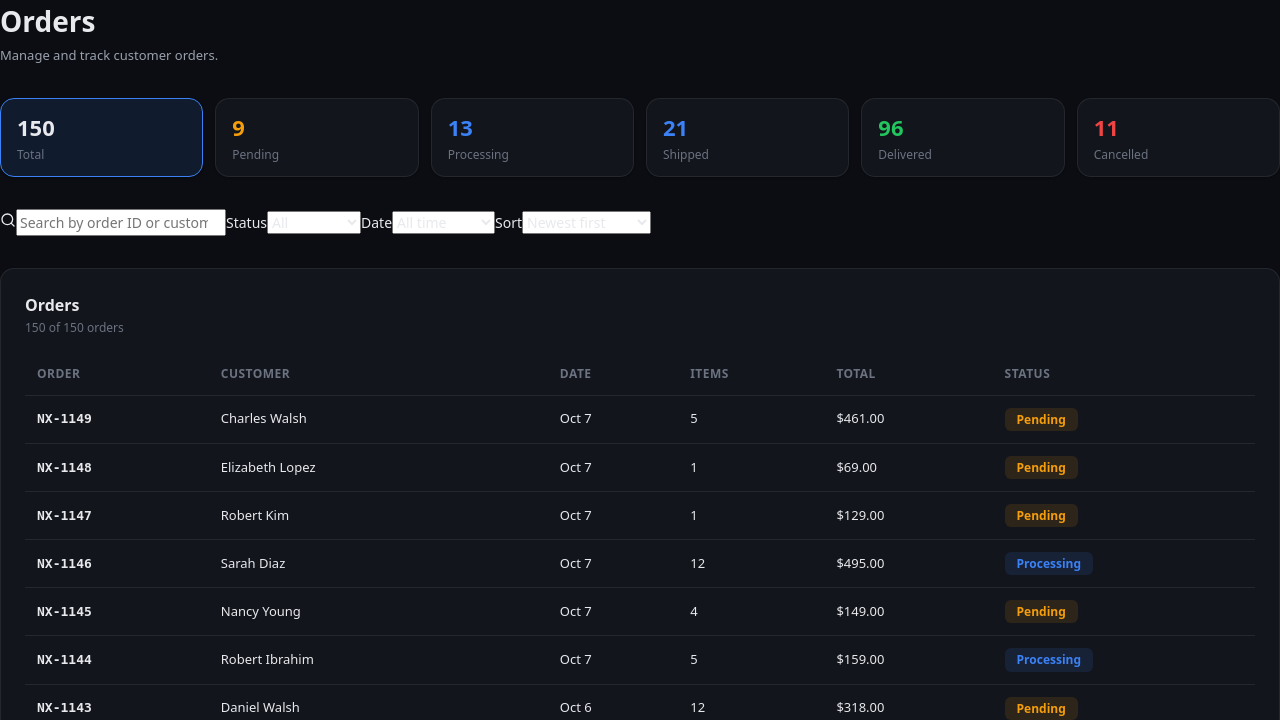
Scenario: Orders page status changes › cancels a Pending order and removes all further actions
This screenshot has width=1280, height=720.
Click the button "9 Pending".
click(317, 137)  # box [215,98,419,176]
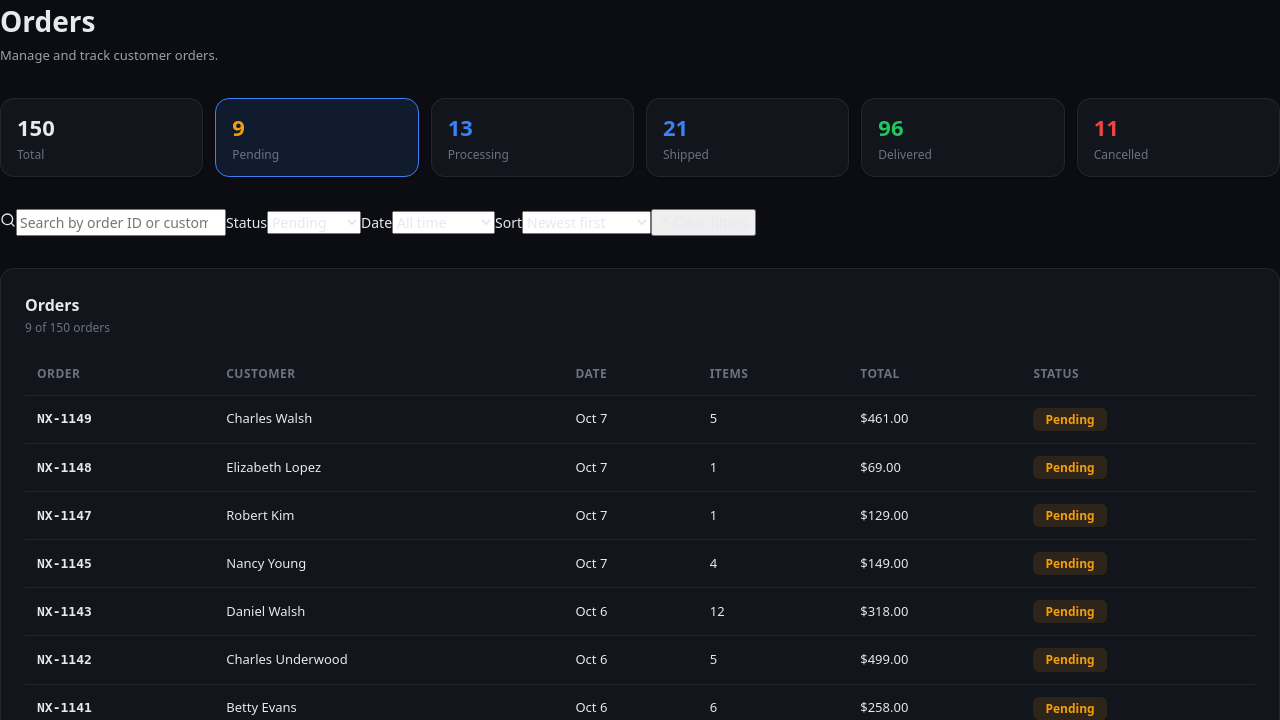
Click the button with aria-label "view order".
click(64, 419)  # box [37,409,92,429]
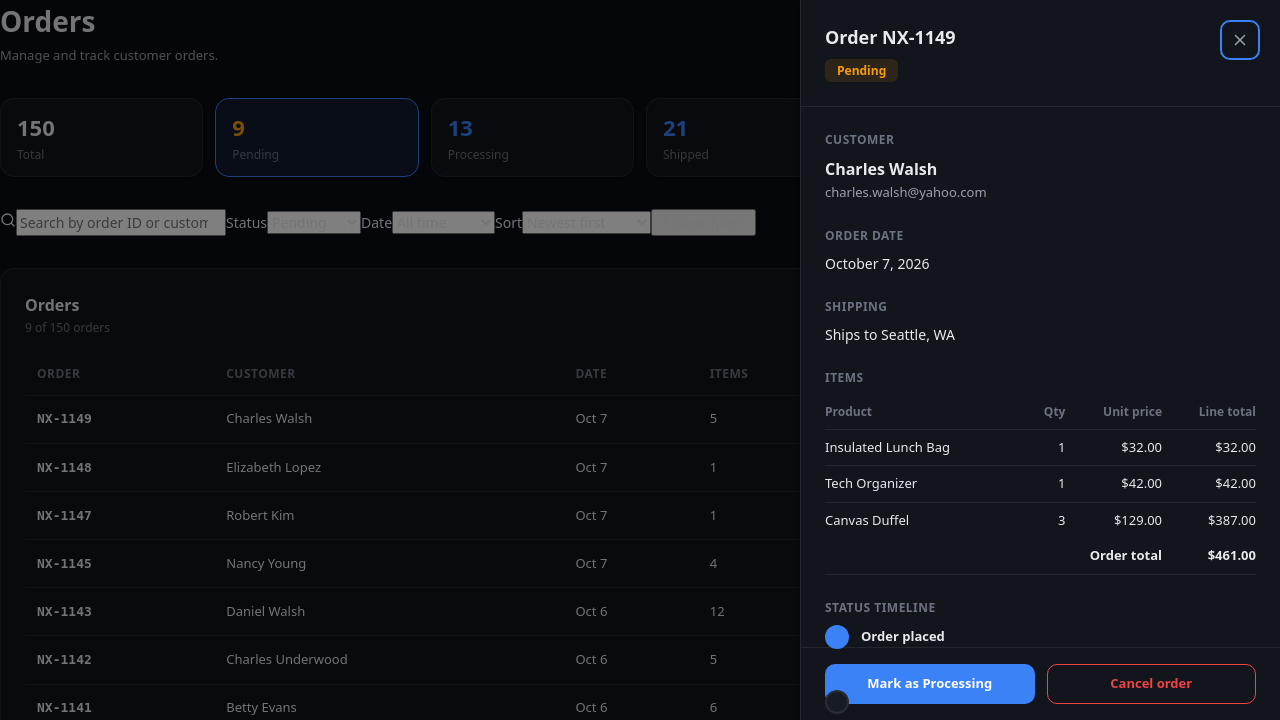
Result: the button "Mark as Processing" is shown at [825,664,1034,704]
Click the button "Cancel order".
click(1151, 684)  # box [1046,664,1256,704]
(page scrolled)
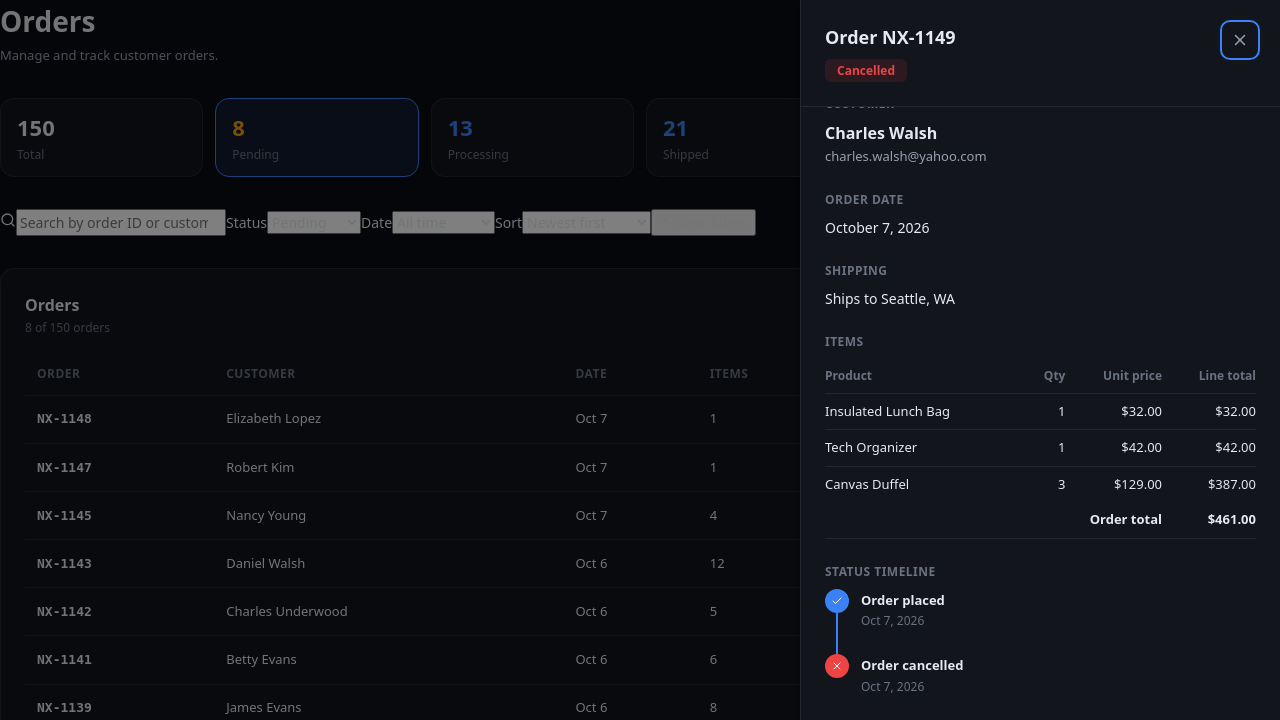
Result: the button "Mark as" is gone
Result: the button "Cancel order" is gone
Result: the list item with class "status-timeline__step--cancelled" is shown at [825,654,964,695]
